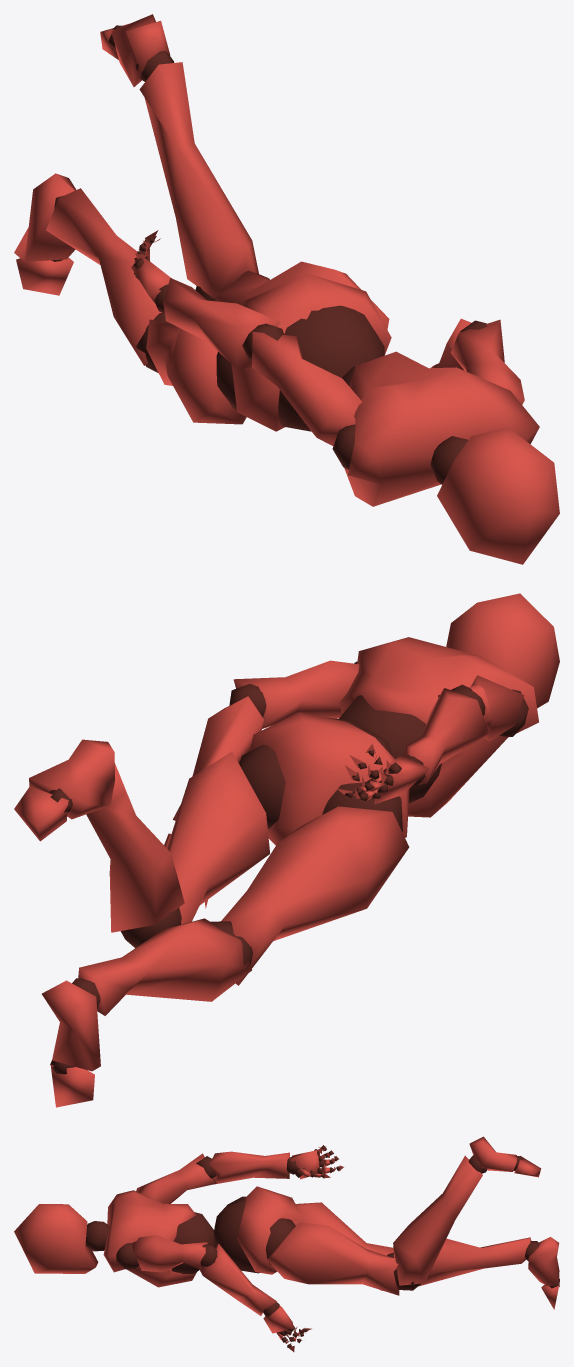
3 renders of one model, top to bottom at view 1: azimuth 30°, elevation 25°; view 2: azimuth 150°, elevation 25°; view 3: azimuth 270°, elevation 25°, orthographic. The views are drawn at different scales.
Visible parts, largest first — view 1: Beta_Surface, Beta_Joints; view 2: Beta_Surface, Beta_Joints; view 3: Beta_Surface, Beta_Joints.
Boxes of the visible parts, left/top/right/bottom form: Beta_Surface: left=14, top=14, right=559, bottom=564; Beta_Joints: left=51, top=25, right=486, bottom=484; Beta_Surface: left=14, top=593, right=559, bottom=1107; Beta_Joints: left=49, top=661, right=528, bottom=1074; Beta_Surface: left=14, top=1136, right=559, bottom=1351; Beta_Joints: left=85, top=1145, right=559, bottom=1347.
Bounding box in the file's own units: 0.5944 × 0.6855 × 1.79.
